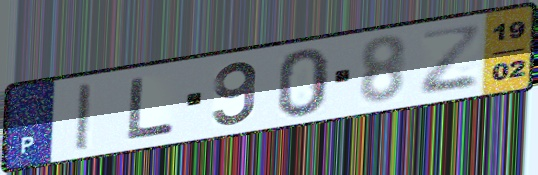0: (274, 45, 333, 120)
8: (357, 33, 410, 108)
9: (211, 60, 259, 127)
I: (72, 80, 93, 153)
L: (125, 74, 180, 143)
Z: (417, 23, 484, 98)
